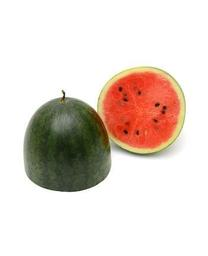watermelon: (18, 95, 112, 195), (99, 65, 187, 158)
